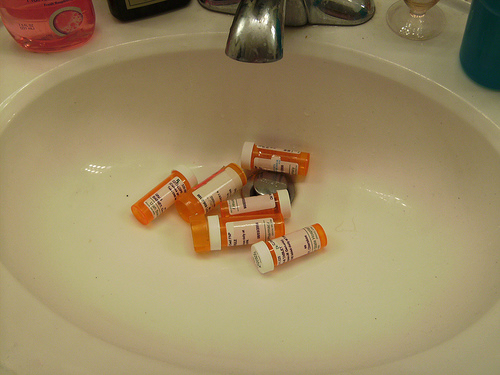pill bottle: (132, 164, 199, 228), (191, 210, 288, 253), (250, 224, 328, 276), (179, 164, 246, 222), (238, 139, 311, 179), (220, 188, 292, 222)
